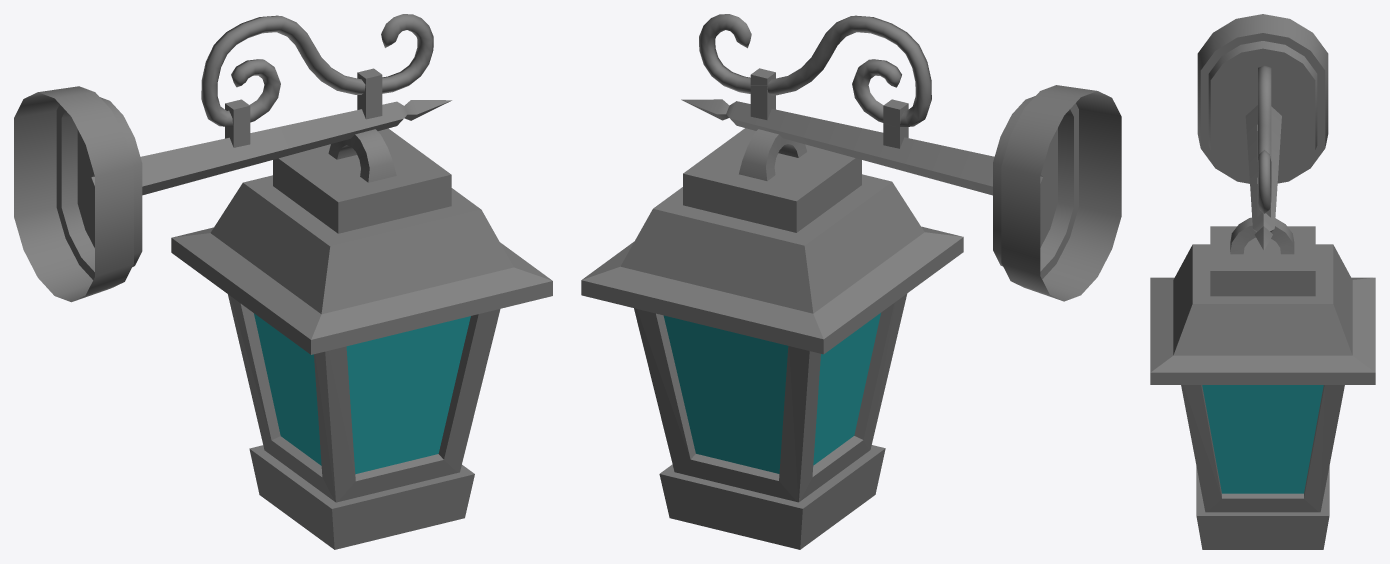
File: SM_walllamp_01.fbx
3 views of the same model, side by side, from view 1: azimuth 30°, elevation 25°; view 2: azimuth 150°, elevation 25°; view 3: azimuth 270°, elevation 25° (orthographic). The views are drawn at different scales.
Parts seen in each view (by area): view 1: Cylinder028; view 2: Cylinder028; view 3: Cylinder028.
Boxes of the visible parts, box(x1,y1,x2,y2) form: Cylinder028: box(14, 14, 552, 549); Cylinder028: box(581, 14, 1121, 549); Cylinder028: box(1150, 14, 1375, 549).
Size of the model in its own units: 31.27 by 35.71 by 17.65.
